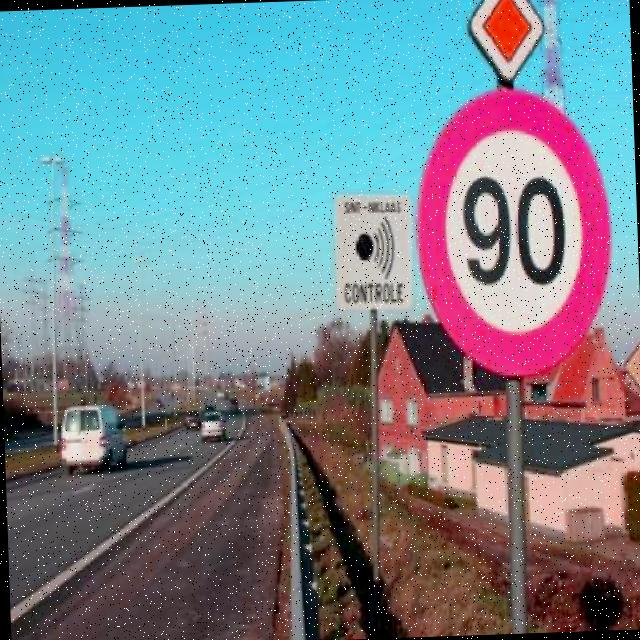Ograniczenie predkosci do 90: (412, 86, 614, 376)
